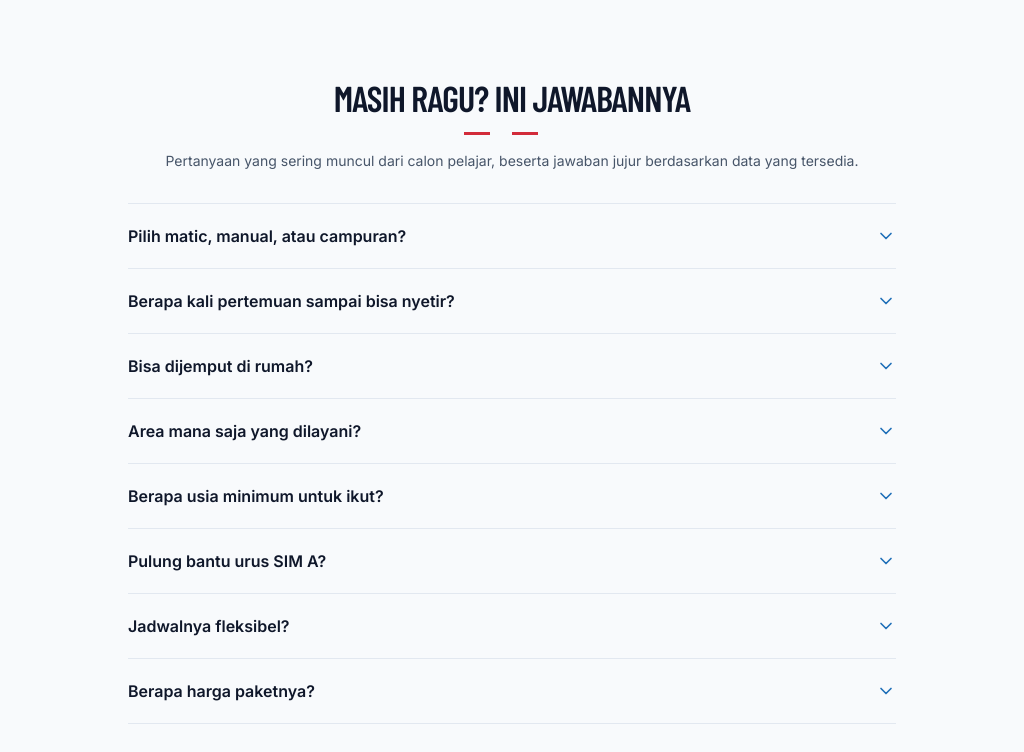
Test: Faq accordion › expands a question on click and reveals its answer
What coordinates should you click on to do the following:
click the button "Pilih matic, manual, atau campuran?"
I would click on:
 (267, 236)
Its box is [128,204,896,268].
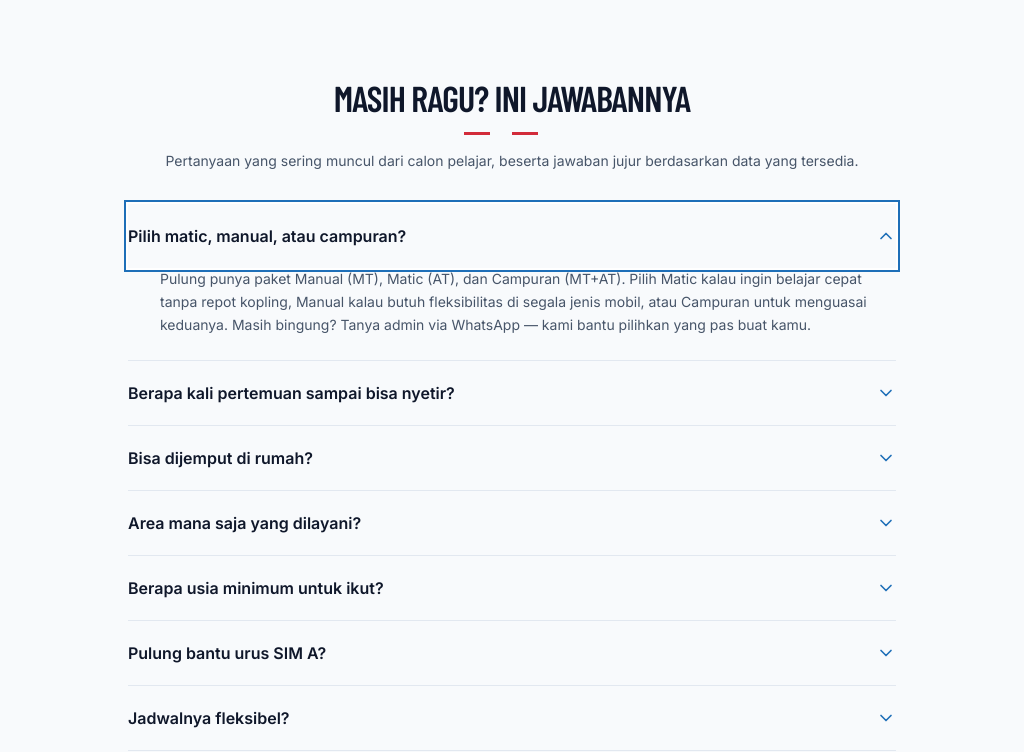
Result: the button "Pilih matic, manual, atau campuran?" is expanded at [128,204,896,268]
Result: the text "Pulung punya paket Manual (MT), Matic (AT), dan Campuran (MT+AT). Pilih Matic kalau ingin belajar cepat tanpa repot kopl" is shown at [160,270,867,332]
